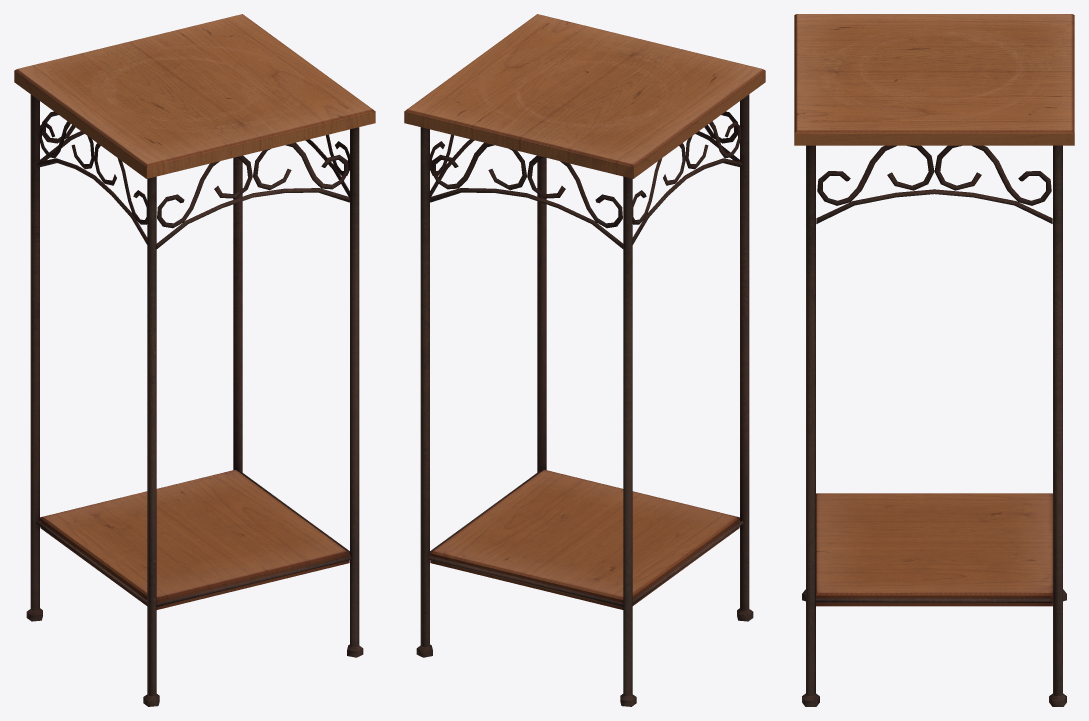
File: table_plantstand.fbx
The picture shows the model from 3 angles, left to right: view 1: azimuth 30°, elevation 25°; view 2: azimuth 150°, elevation 25°; view 3: azimuth 270°, elevation 25°; orthographic projection. The views are drawn at different scales.
Visible parts, largest first — view 1: table_plantstand; view 2: table_plantstand; view 3: table_plantstand.
Part boxes in pixels (x1,y1,x2,y2): table_plantstand: (14,14,375,706); table_plantstand: (404,14,765,706); table_plantstand: (794,14,1074,706).
Size of the model in its own units: 1.31 by 2.99 by 1.31.
